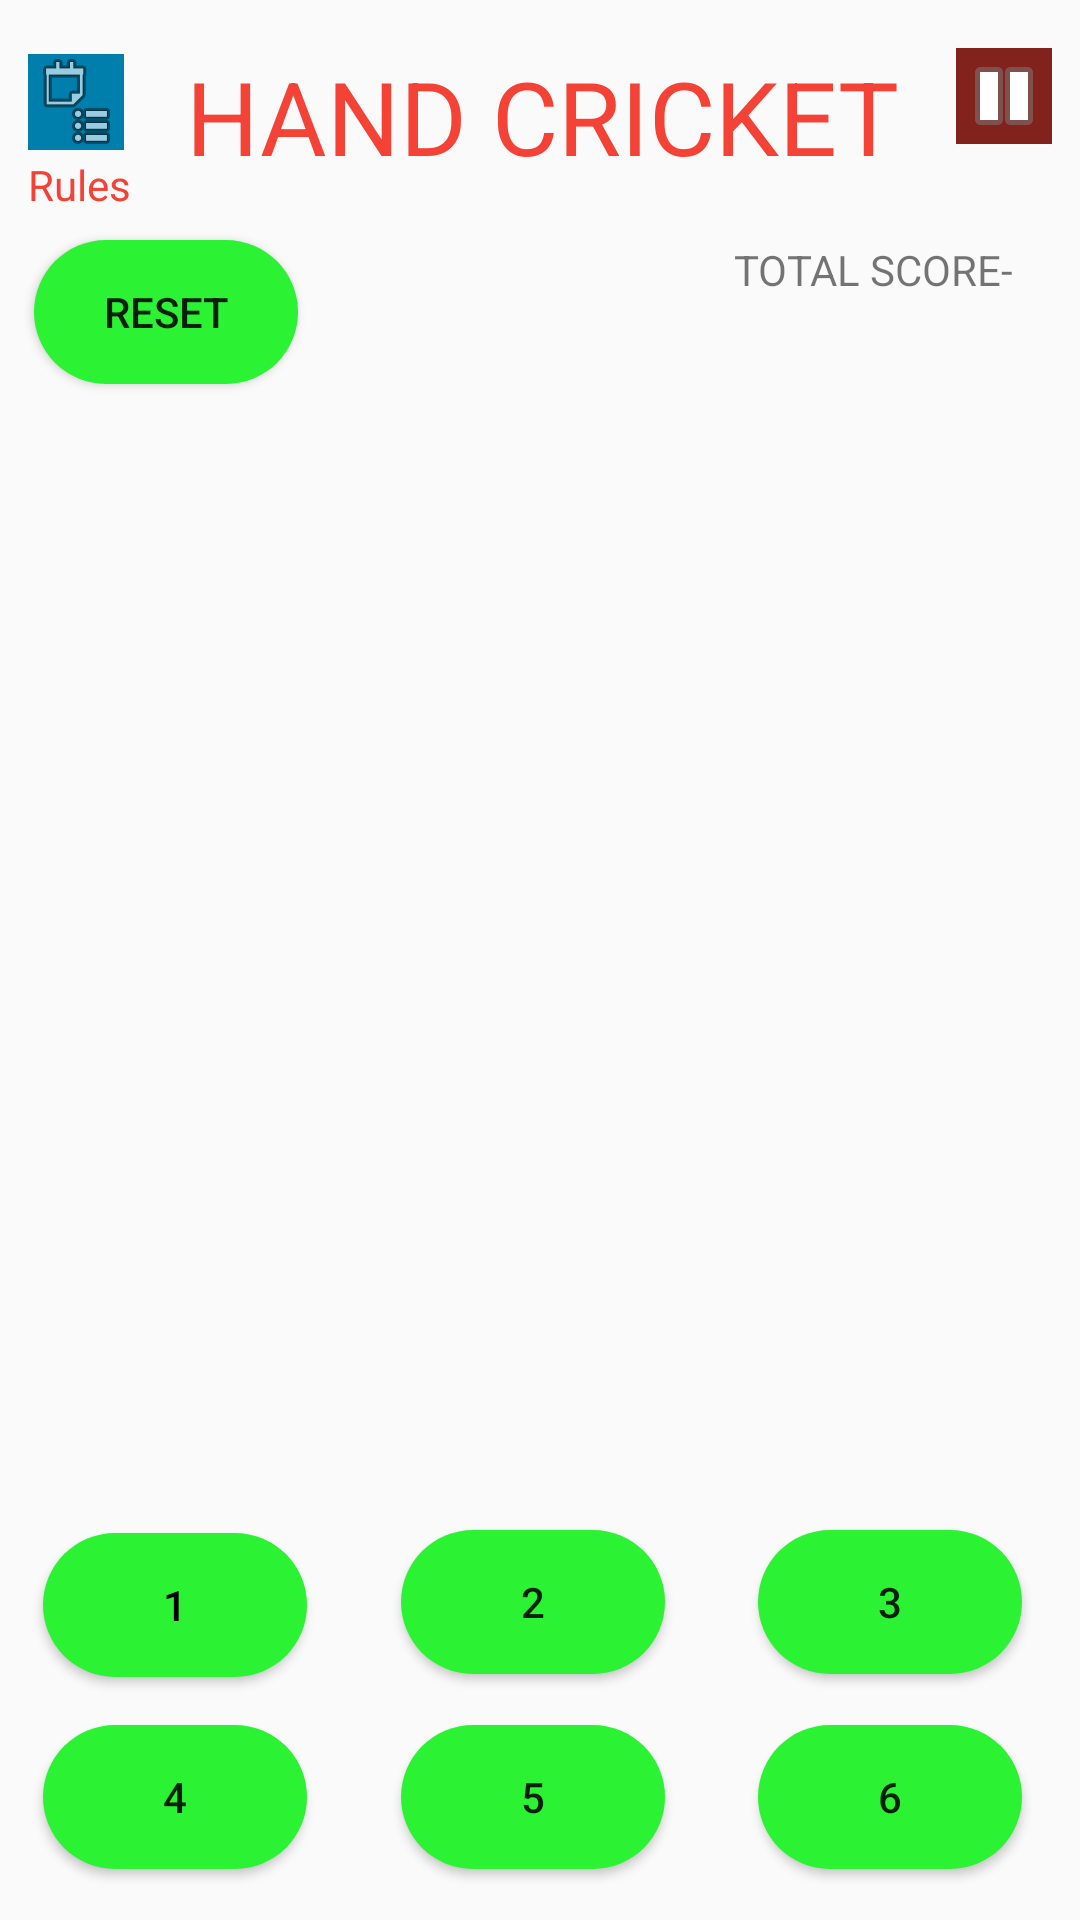

Named icons in this screenshot (1080 × 1920) and their centers, (x=x, y=y):
agenda: (x=76, y=102)
pause: (x=1004, y=96)
